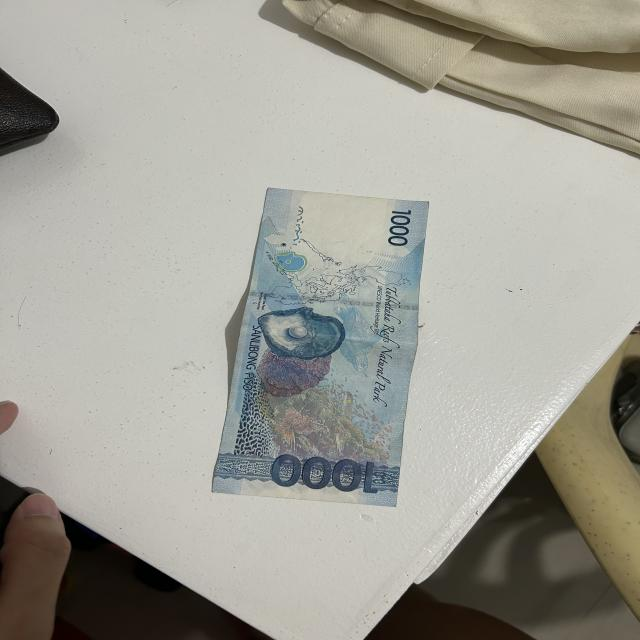1000_pearl: (258, 309, 343, 360)
1000_pearl_watermark: (276, 251, 307, 273)
